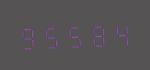eight: (87, 19, 109, 48)
five: (41, 21, 63, 50), (64, 20, 86, 49)
four: (110, 18, 132, 47)
nine: (18, 21, 40, 51)
